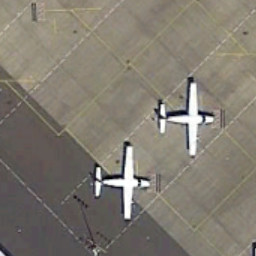Airplane: (79, 139, 162, 230), (154, 75, 226, 164)
